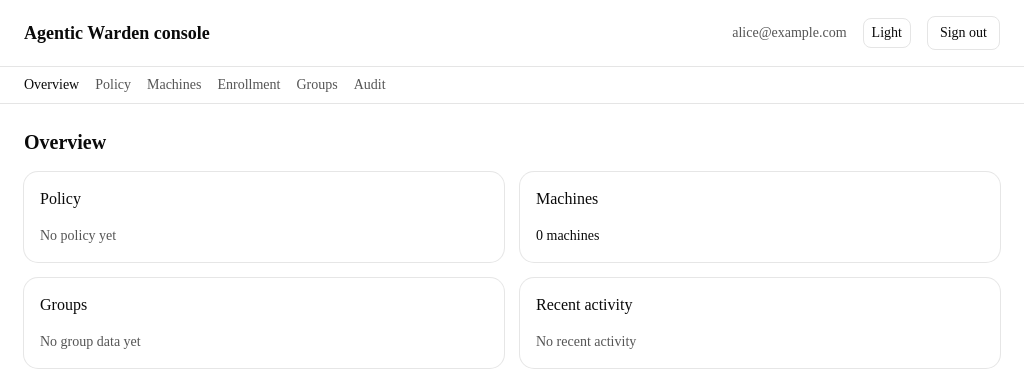
Test: logout posts and returns to sign-in
The image size is (1024, 386).
Click the button "Sign out" at {"x": 963, "y": 33}, box [927,16,1000,50]
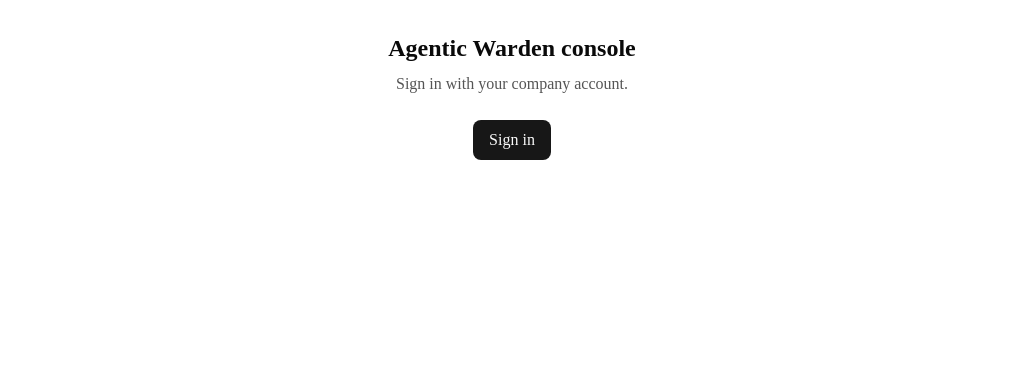
Check: the link "Sign in" is shown, box [473,120,551,160]
